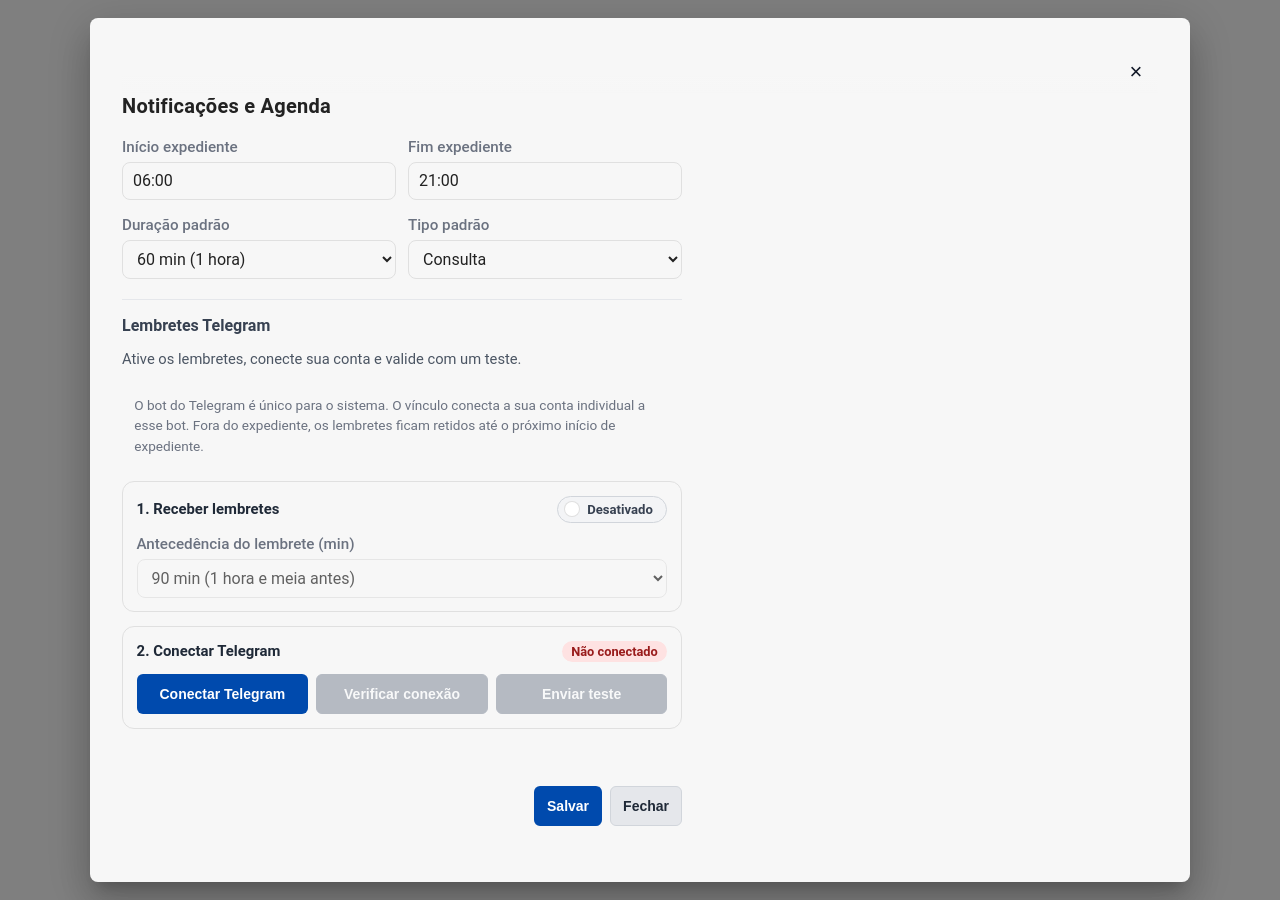
it: AgendaSettingsModal › shows error when end <= start and does not persist
Type "0559" into the field labelled "Fim expediente" at (545, 181), box [408,162,682,200]
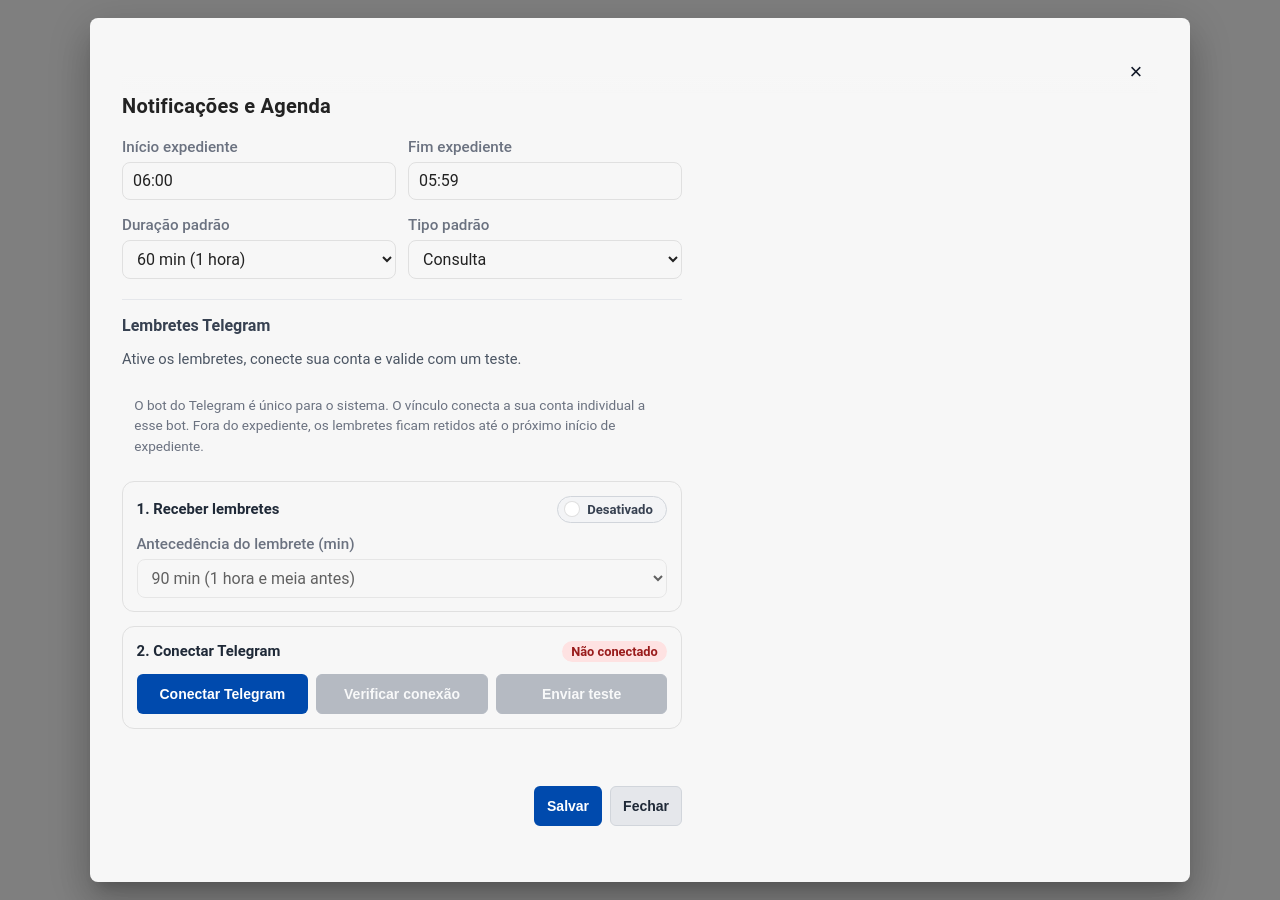
Click the button "Salvar" at (568, 806), box [534,786,602,826]
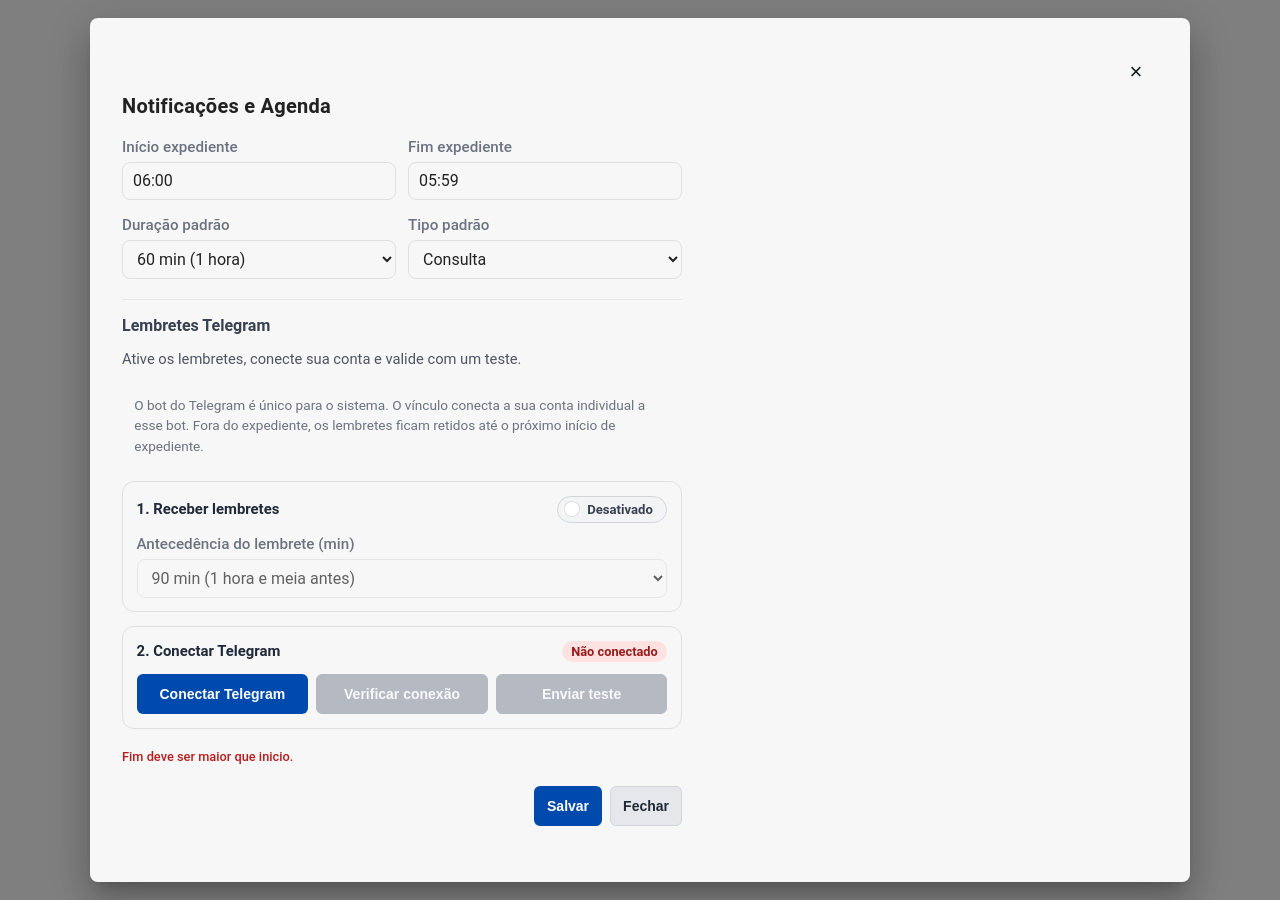
Expected: the message shows "Fim deve ser maior", [122,749,293,764]
